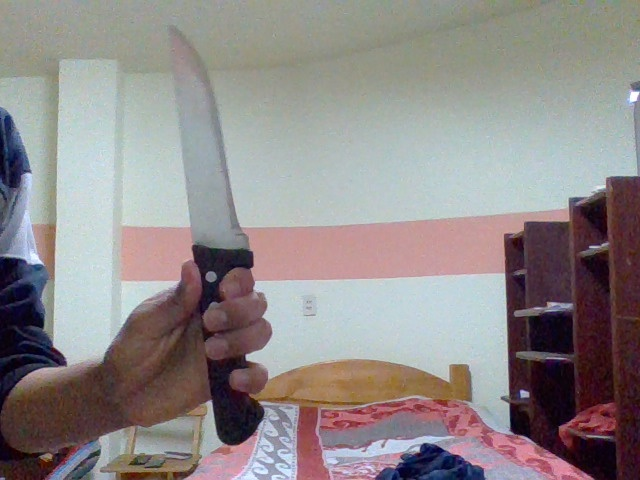cuchillo: (162, 12, 275, 451)
